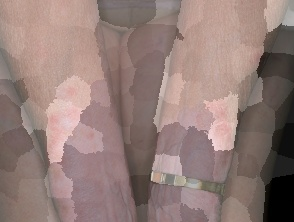vitiligo: (22, 52, 147, 222), (147, 81, 241, 222)
